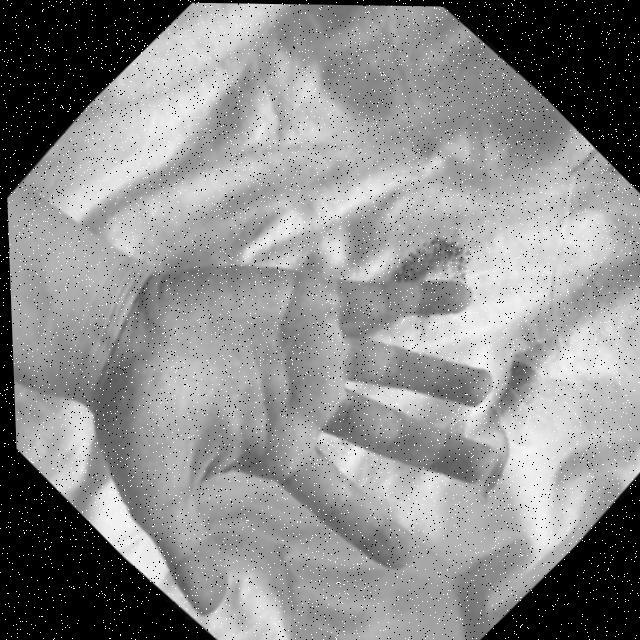no-gloves: (2, 81, 578, 640)
